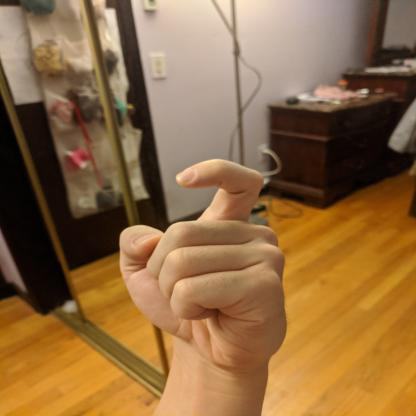X: (113, 156, 290, 362)
